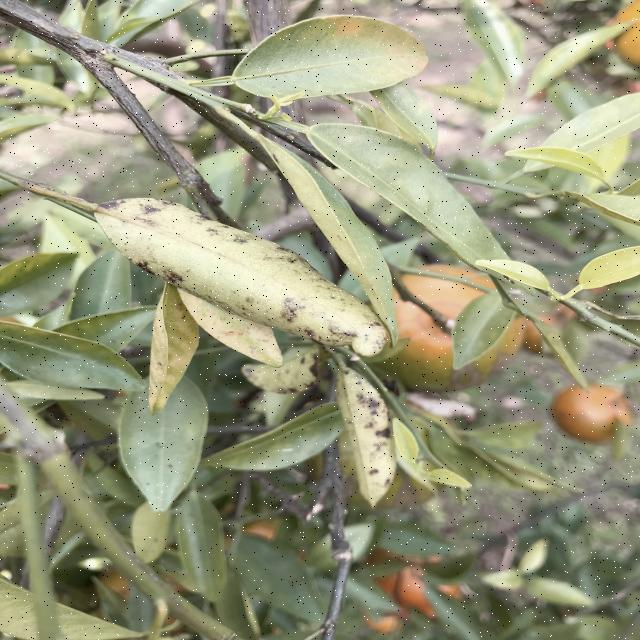melanose: (104, 191, 393, 353), (333, 370, 410, 500), (232, 347, 320, 398)
